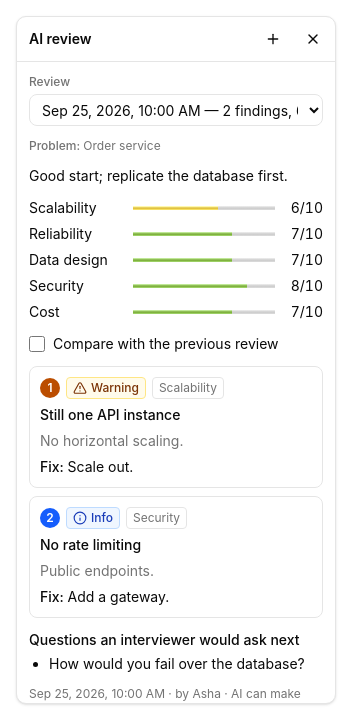
Test: ReviewPanel › compares with the previous review: new, still open, resolved and score changes
This screenshot has width=348, height=720.
Step 1. Click the checkbox labelled "Compare with the previous review" → coordinates (37, 344), box top-left (29, 336), bottom-right (45, 352)
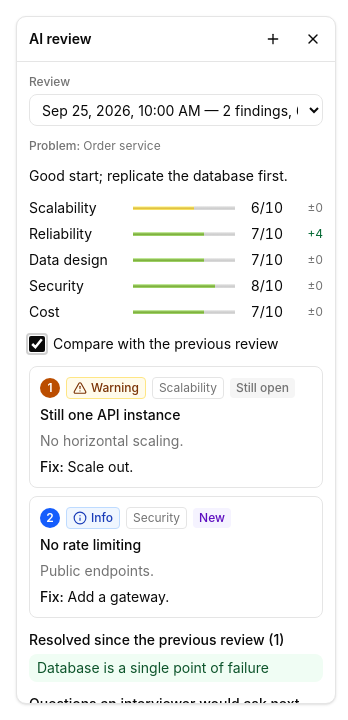
Now the text "Still open" is shown, box top-left (230, 378), bottom-right (295, 398)
Now the text "New" is shown, box top-left (193, 508), bottom-right (231, 528)
Now the element "Resolved since the previous review" shows "Database is a single point of failure", box top-left (37, 659), bottom-right (269, 676)
